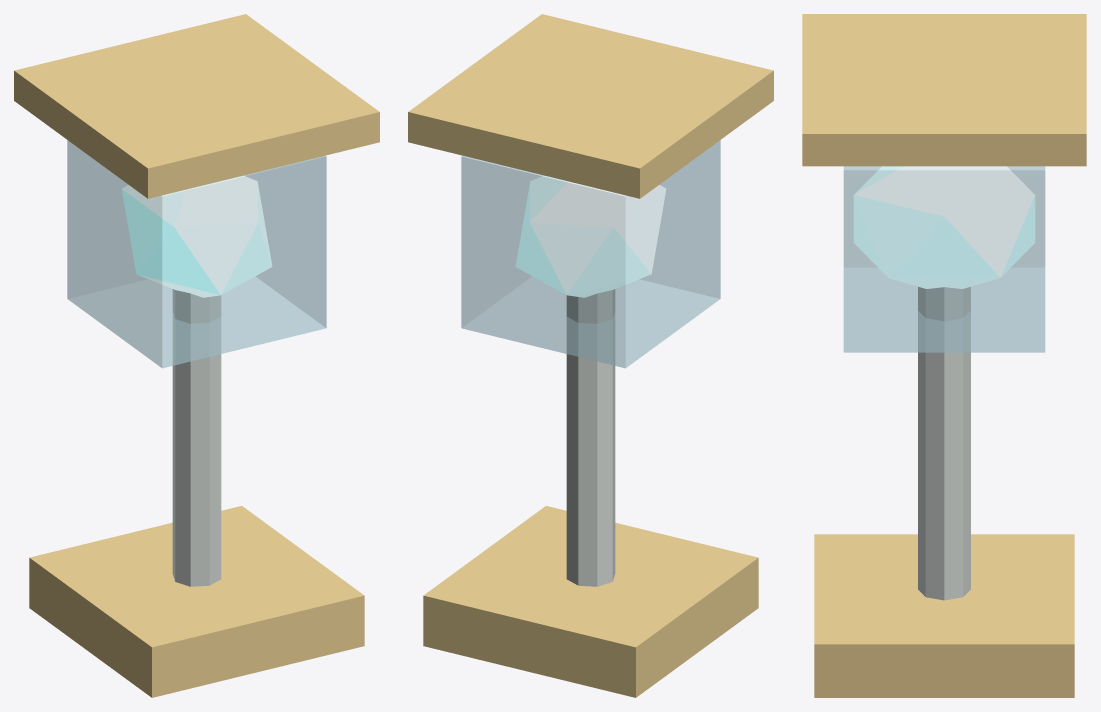
Rendered from wardLantern.glb.
The picture shows the model from 3 angles, left to right: view 1: azimuth 30°, elevation 25°; view 2: azimuth 150°, elevation 25°; view 3: azimuth 270°, elevation 25°; orthographic projection. The views are drawn at different scales.
Visible parts, largest first — view 1: LanternGlass, LanternCap, LightBase, LightPost, LanternCore; view 2: LanternGlass, LanternCap, LightBase, LightPost, LanternCore; view 3: LanternCap, LightBase, LanternGlass, LanternCore, LightPost.
Boxes of the visible parts, x1,y1,x2,y2 form: LanternGlass: (67, 140, 326, 368); LanternCap: (14, 14, 379, 198); LightBase: (29, 506, 364, 697); LightPost: (172, 289, 221, 586); LanternCore: (121, 175, 272, 297); LanternGlass: (461, 140, 720, 368); LanternCap: (408, 14, 773, 198); LightBase: (423, 506, 758, 697); LightPost: (566, 289, 615, 586); LanternCore: (515, 175, 666, 297); LanternCap: (802, 14, 1086, 166); LightBase: (814, 534, 1074, 697); LanternGlass: (843, 166, 1045, 352); LanternCore: (853, 166, 1035, 288); LightPost: (918, 287, 970, 600).
Size of the model in its own units: 0.48 by 1.06 by 0.48.
